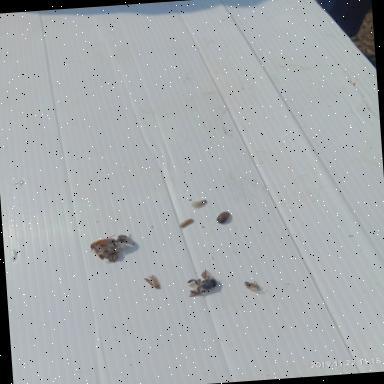pbw: (141, 272, 162, 290), (177, 216, 194, 228), (190, 197, 208, 208)
